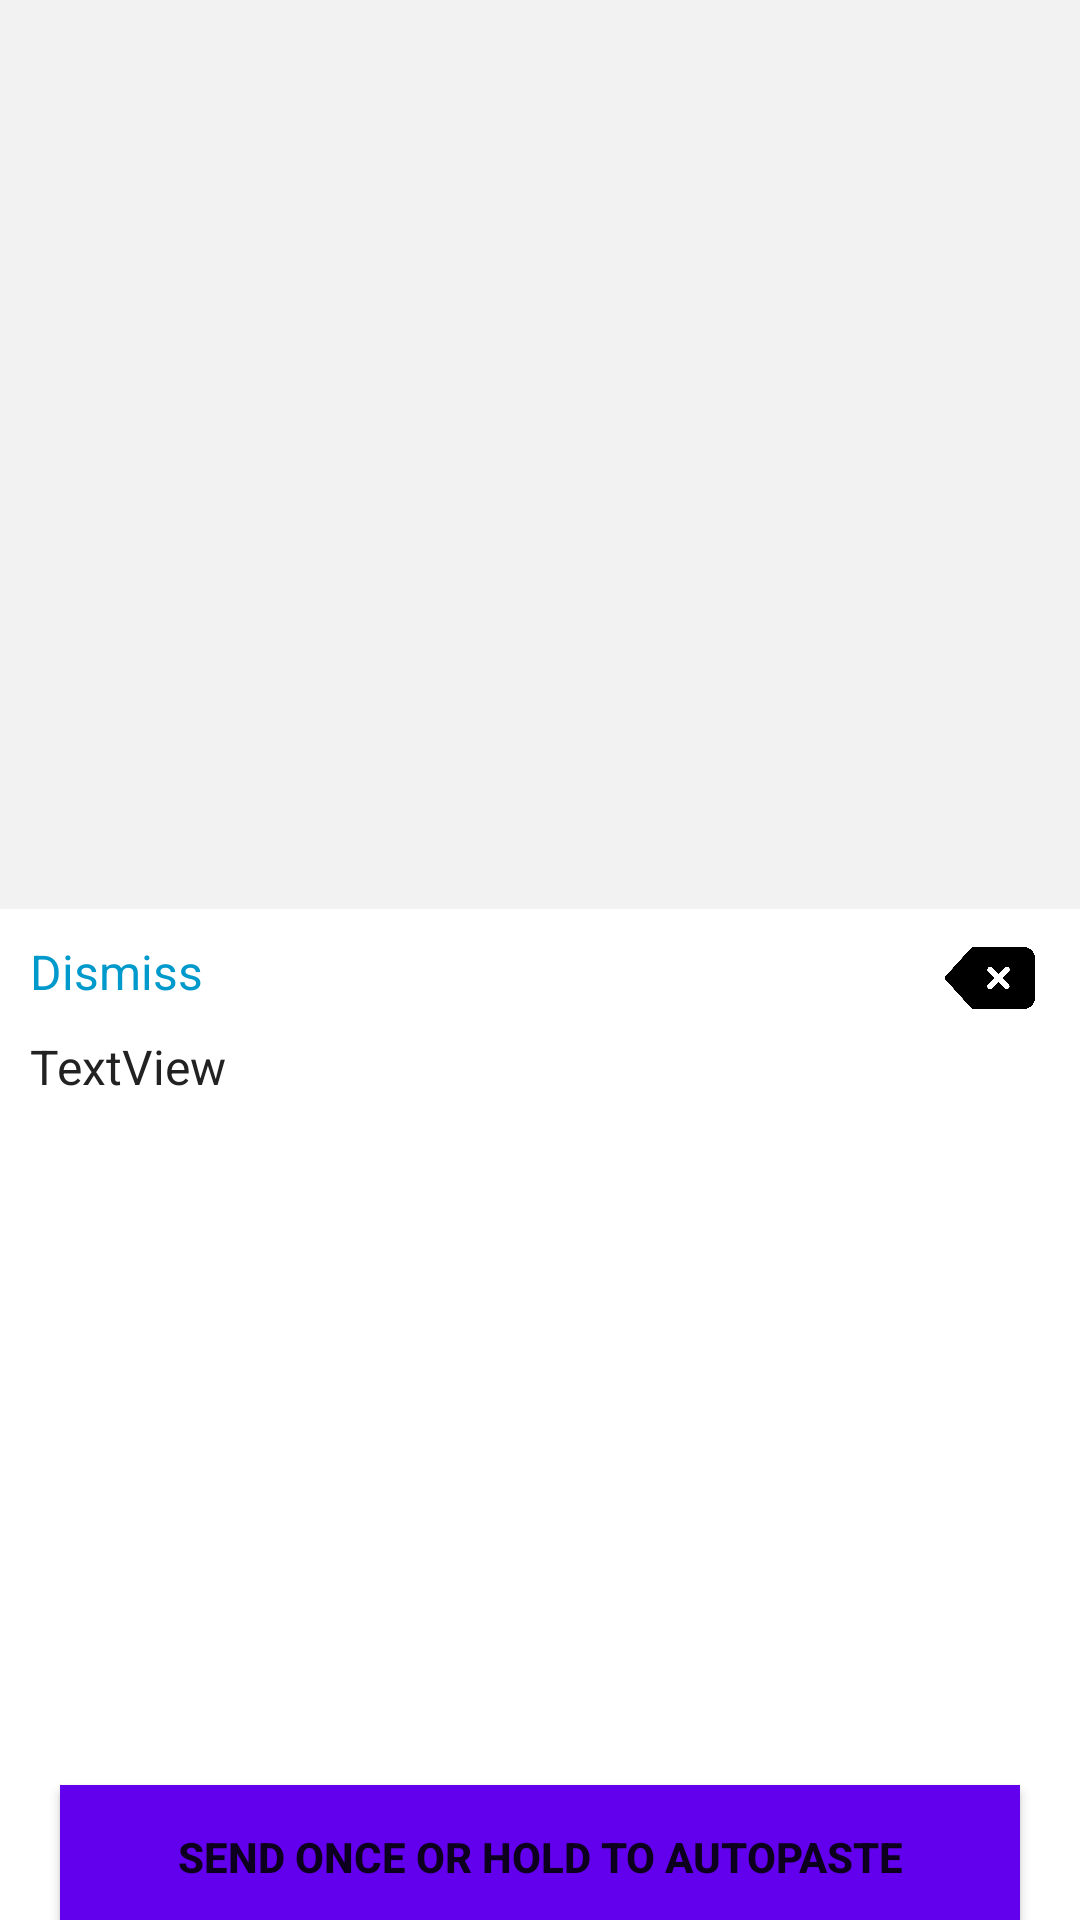

Screen size 1080px×1920px. Icon name, then its box in pixels as [x1, y1, x2, y2]:
cross: [945, 947, 1035, 1009]
